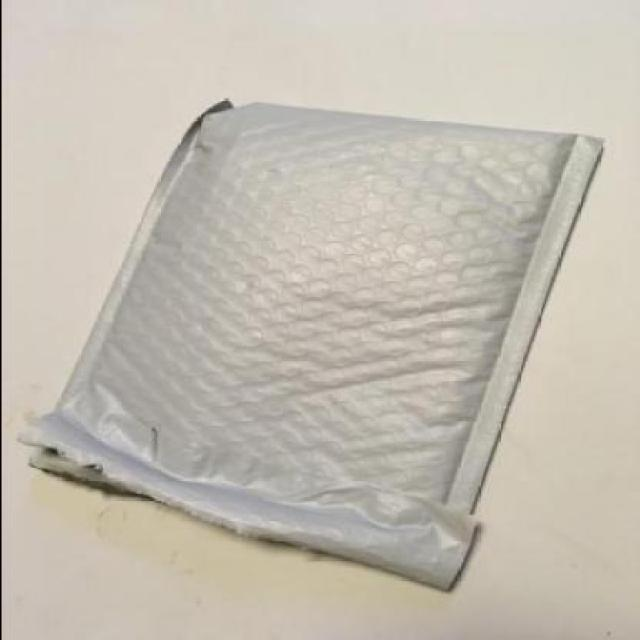PLASTIC: (18, 98, 605, 587)
